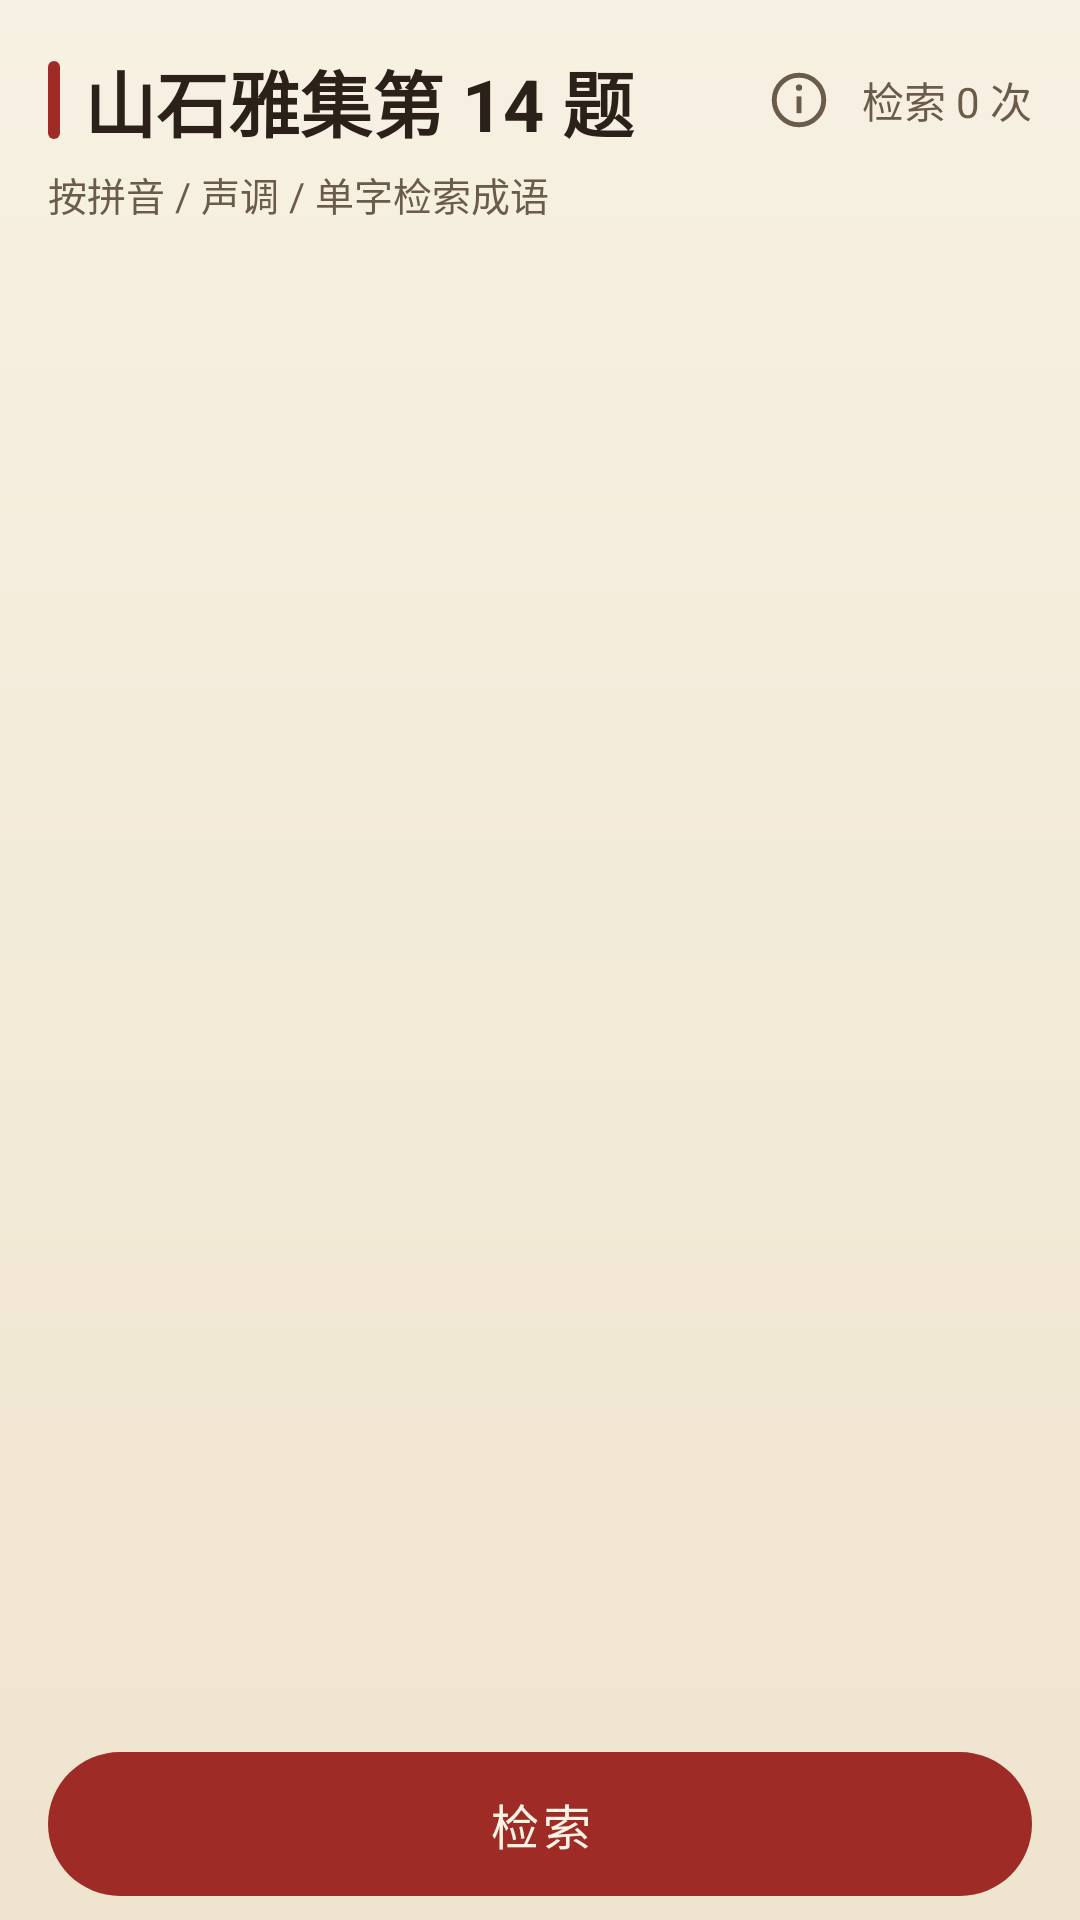

Where icons sit on this 1080×1920 app screen, as bbox=[x1, y1, x2, y2]:
信息: bbox=[771, 72, 827, 128]
